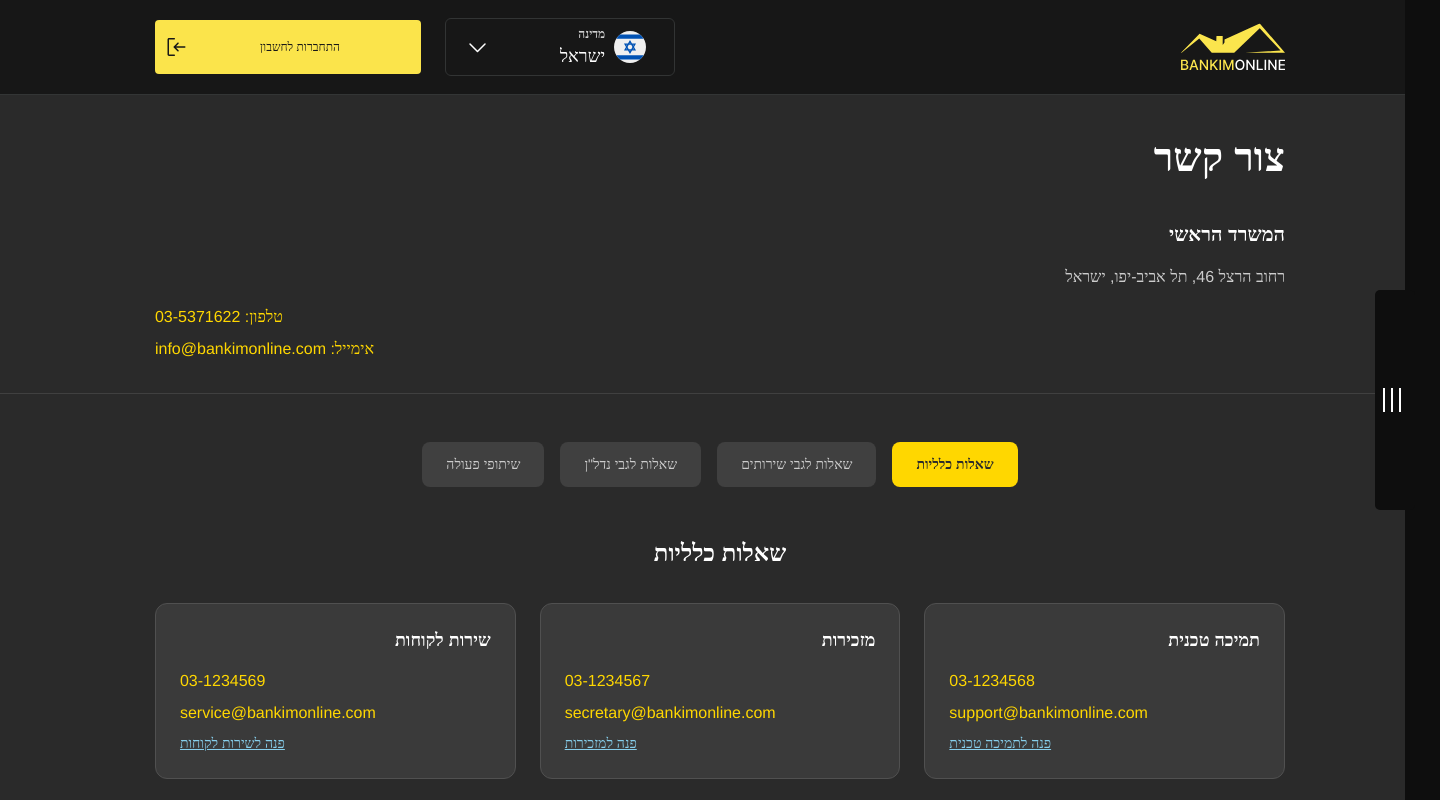
Test: Contacts - Phase 10 Quick Validation › should load the page and display basic database content in Hebrew
The image size is (1440, 800).
Expected: the heading "המשרד הראשי" is shown, [1169, 223, 1285, 245]
Expected: the text "רחוב הרצל 46, תל אביב-יפו, ישראל" is shown, [1065, 268, 1285, 285]
Note: Test tab switching
Click the button "שאלות לגבי שירותים".
click(797, 465)  # box [717, 442, 876, 487]
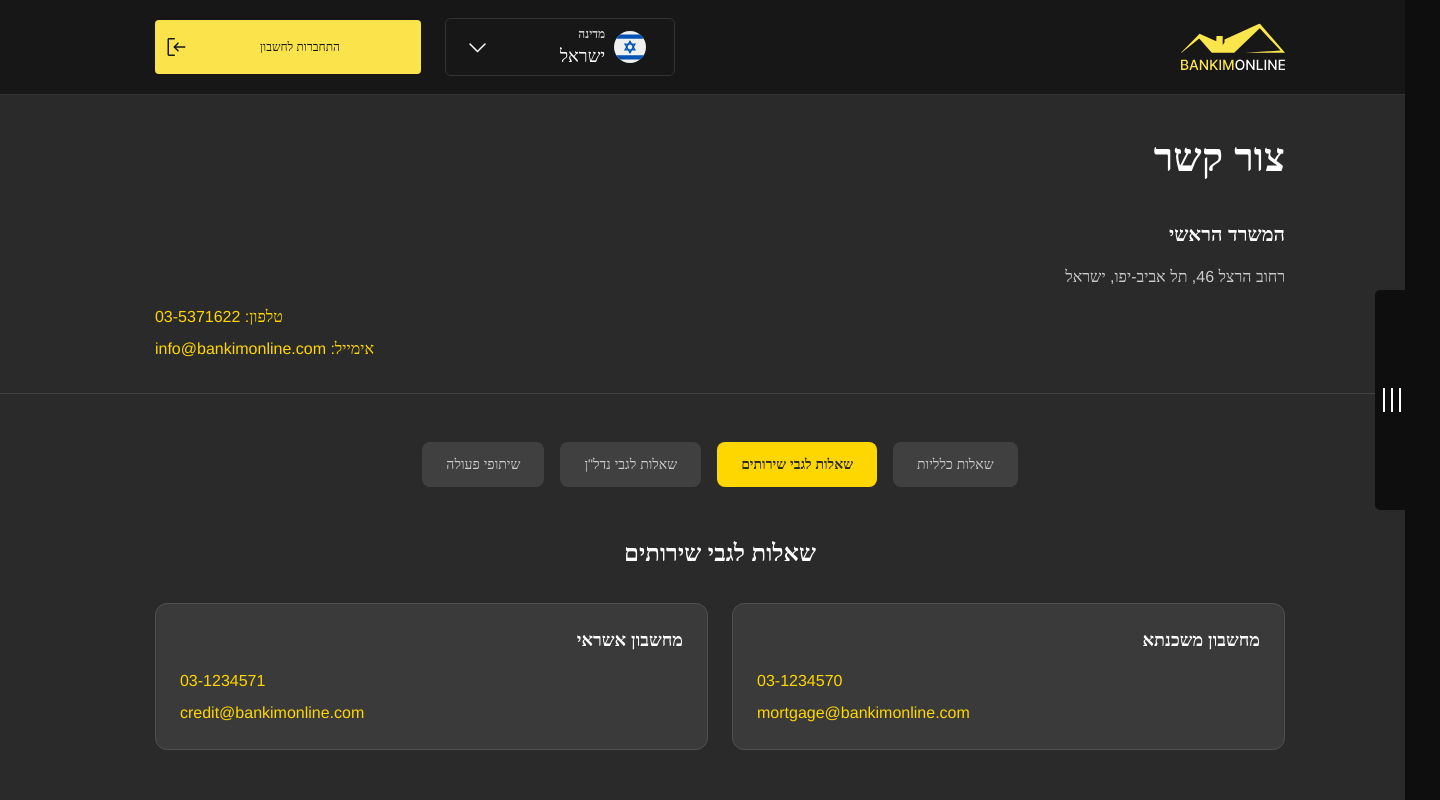
Expected: the element that starts with "מחשבון משכנתא" is shown, [155, 603, 1285, 750]
Now the heading "מחשבון אשראי" is shown, box [577, 630, 683, 650]
